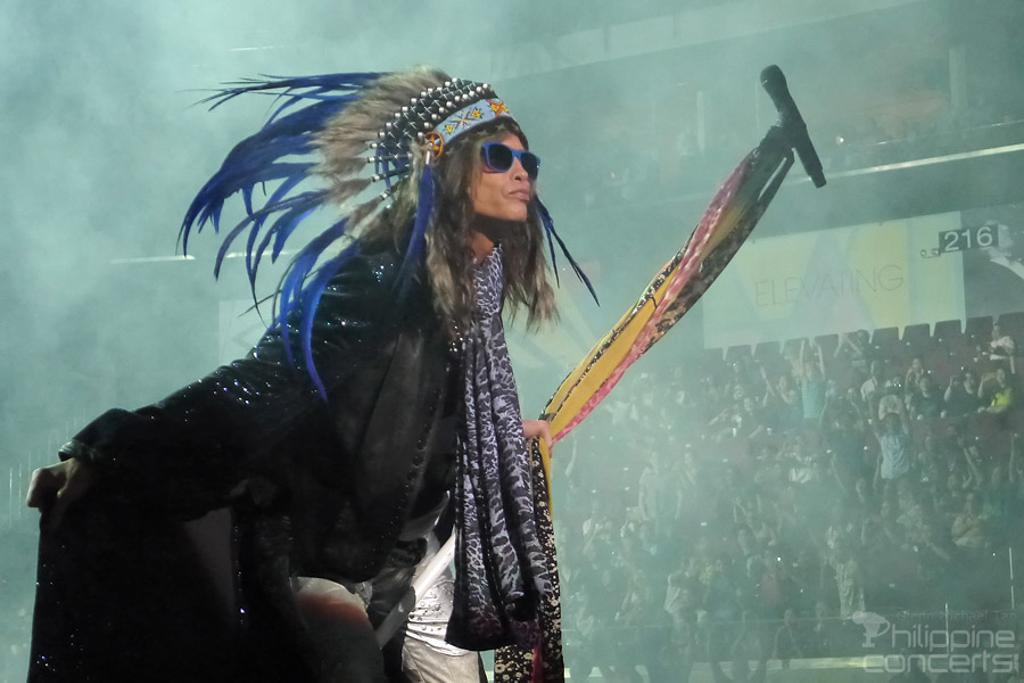face: (459, 121, 537, 223)
